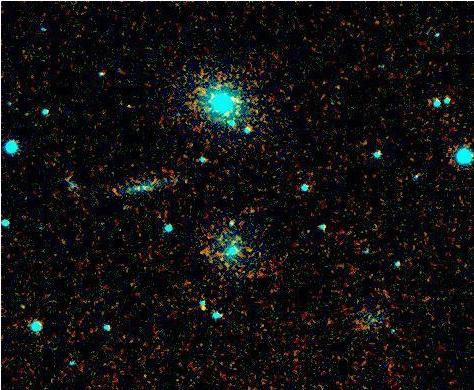star: (188, 294, 218, 324)
